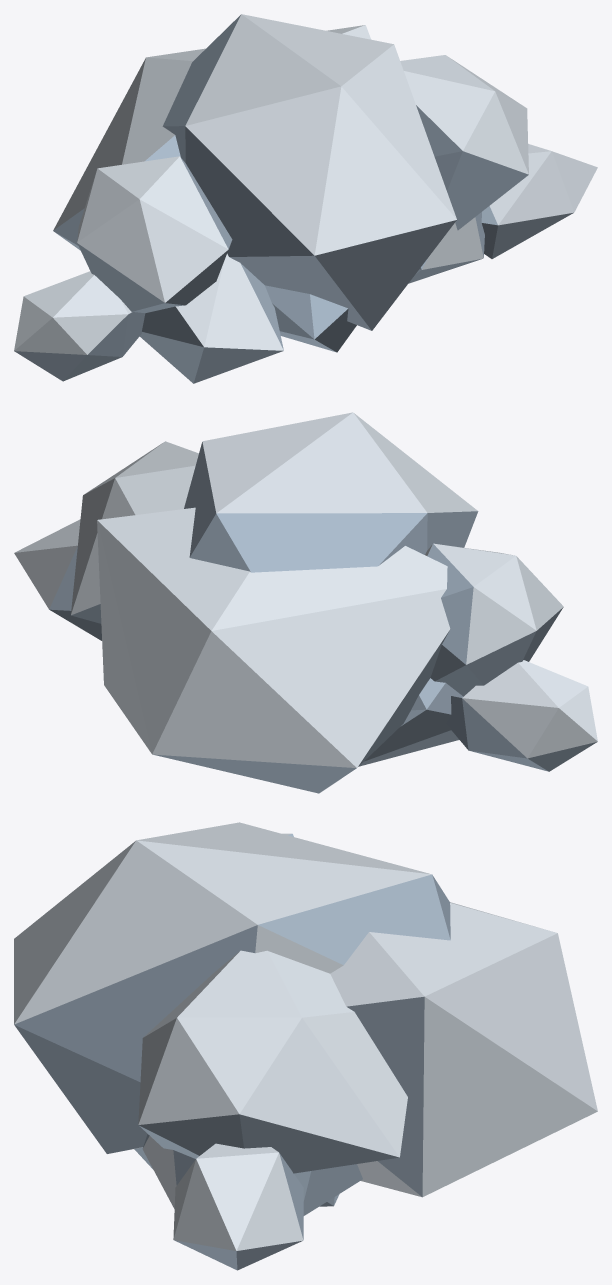
The model's file is Cloud2.fbx.
The picture shows the model from 3 angles, top to bottom: view 1: azimuth 30°, elevation 25°; view 2: azimuth 150°, elevation 25°; view 3: azimuth 270°, elevation 25°; orthographic projection. The views are drawn at different scales.
Parts seen in each view (by area): view 1: Cloud2; view 2: Cloud2; view 3: Cloud2.
Boxes of the visible parts, x1,y1,x2,y2 form: Cloud2: (14,14,597,383); Cloud2: (14,412,597,793); Cloud2: (14,822,597,1270).
Size of the model in its own units: 2.09 by 1.01 by 1.45.
